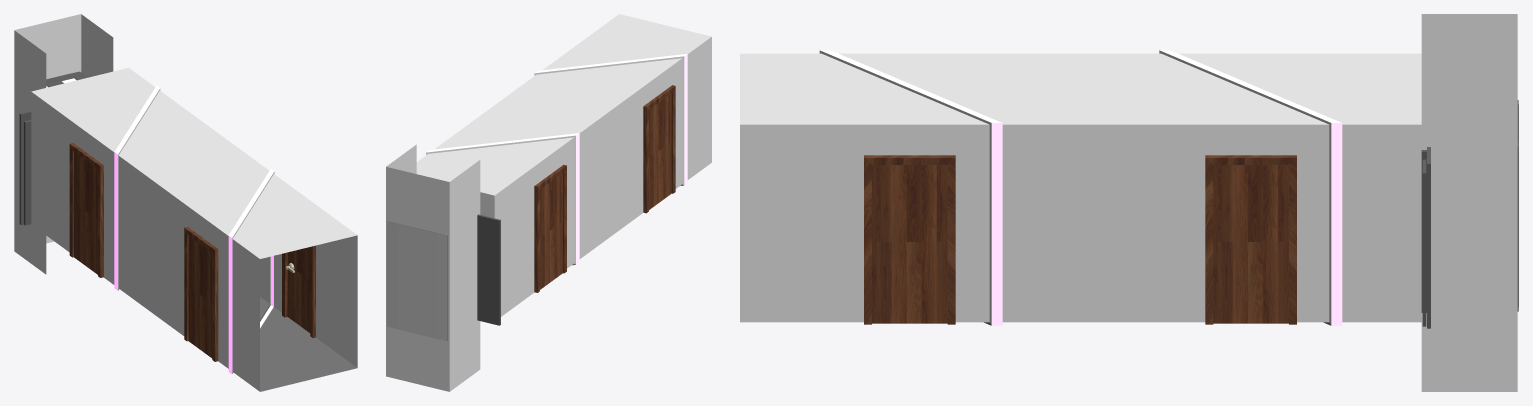
The model's file is corridor.glb.
3 views of the same model, side by side, from view 1: azimuth 30°, elevation 25°; view 2: azimuth 150°, elevation 25°; view 3: azimuth 270°, elevation 25° (orthographic). The views are drawn at different scales.
Visible parts, largest first — view 1: Corridor_Middle, Corridor_End, Door.001, Door.005, Door.004, DoorFrame.001, DoorFrame.003, DoorFrame.002, Elevator_Outside_LeftDoor, Elevator_Inside_LeftDoor, Elevador_Inside; view 2: Corridor_End, Corridor_Middle, Elevador_Inside, Elevator_Inside_LeftDoor, Door.001, Door.005, DoorFrame.001, DoorFrame.003; view 3: Corridor_End, Corridor_Middle, Door.004, Door.006, DoorFrame.002, DoorFrame.004, Elevator_Outside_RightDoor, Elevator_Inside_RightDoor.
Boxes of the visible parts, x1,y1,x2,y2 form: Corridor_Middle: (145, 152, 357, 391); Corridor_End: (14, 14, 243, 307); Door.001: (188, 236, 212, 358); Door.005: (74, 151, 97, 274); Door.004: (285, 247, 310, 332); DoorFrame.001: (184, 227, 218, 361); DoorFrame.003: (69, 143, 103, 277); DoorFrame.002: (282, 245, 315, 337); Elevator_Outside_LeftDoor: (24, 120, 31, 225); Elevator_Inside_LeftDoor: (19, 111, 31, 224); Elevador_Inside: (46, 71, 87, 87); Corridor_End: (386, 93, 603, 391); Corridor_Middle: (511, 14, 711, 241); Elevador_Inside: (387, 221, 447, 341); Elevator_Inside_LeftDoor: (477, 214, 500, 325); Door.001: (649, 93, 671, 209); Door.005: (540, 173, 562, 289); DoorFrame.001: (643, 85, 675, 213); DoorFrame.003: (534, 164, 566, 292); Corridor_End: (1079, 14, 1517, 391); Corridor_Middle: (740, 50, 1081, 325); Door.004: (872, 165, 947, 323); Door.006: (1213, 165, 1288, 323); DoorFrame.002: (864, 155, 955, 324); DoorFrame.004: (1205, 155, 1296, 324); Elevator_Outside_RightDoor: (1422, 159, 1426, 326); Elevator_Inside_RightDoor: (1427, 147, 1430, 328).
Bounding box in the file's own units: 234 × 433 × 928.
9 materials, 1 textured.
